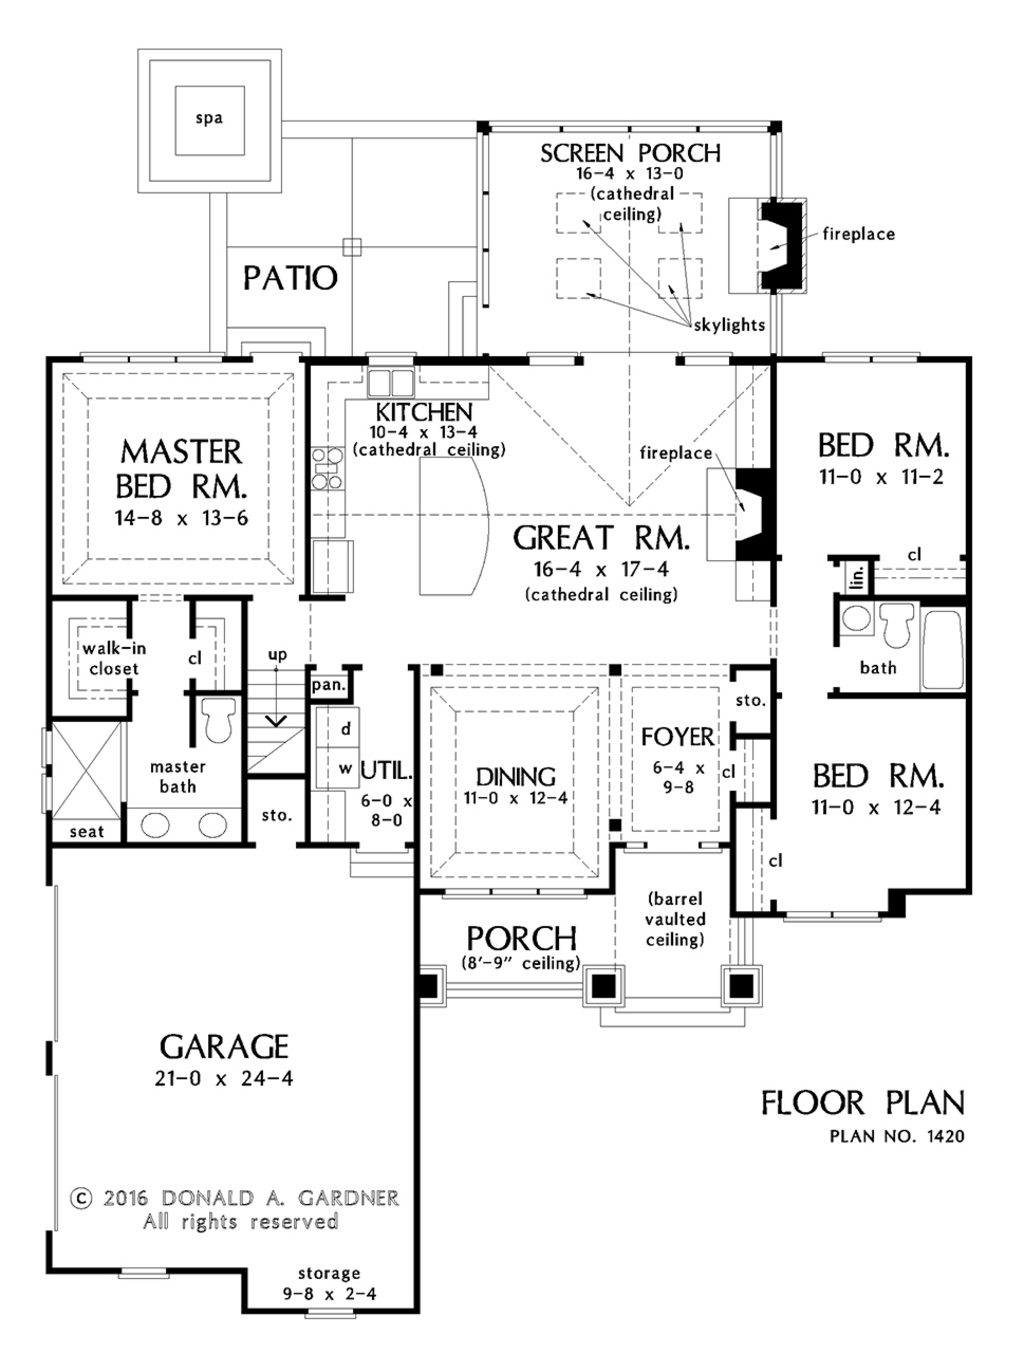kitchen_bar: (409, 442, 496, 613)
large_sink: (127, 806, 246, 844), (202, 690, 248, 756), (874, 598, 909, 650)
small_sink: (842, 590, 882, 644)
stairs: (252, 656, 302, 817)
tub: (919, 602, 965, 692)
twin_sink: (350, 344, 429, 408)
window: (809, 333, 927, 378), (69, 348, 202, 381), (782, 894, 871, 938), (446, 881, 588, 908), (302, 1298, 357, 1327), (119, 1267, 188, 1283)
